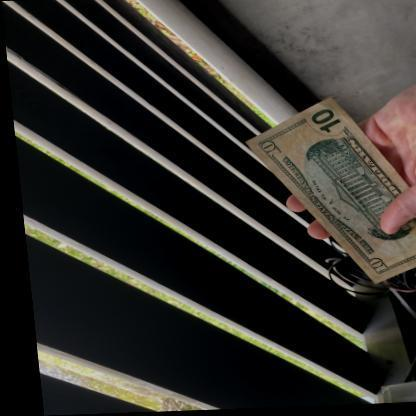ten-back: (239, 96, 416, 287)
